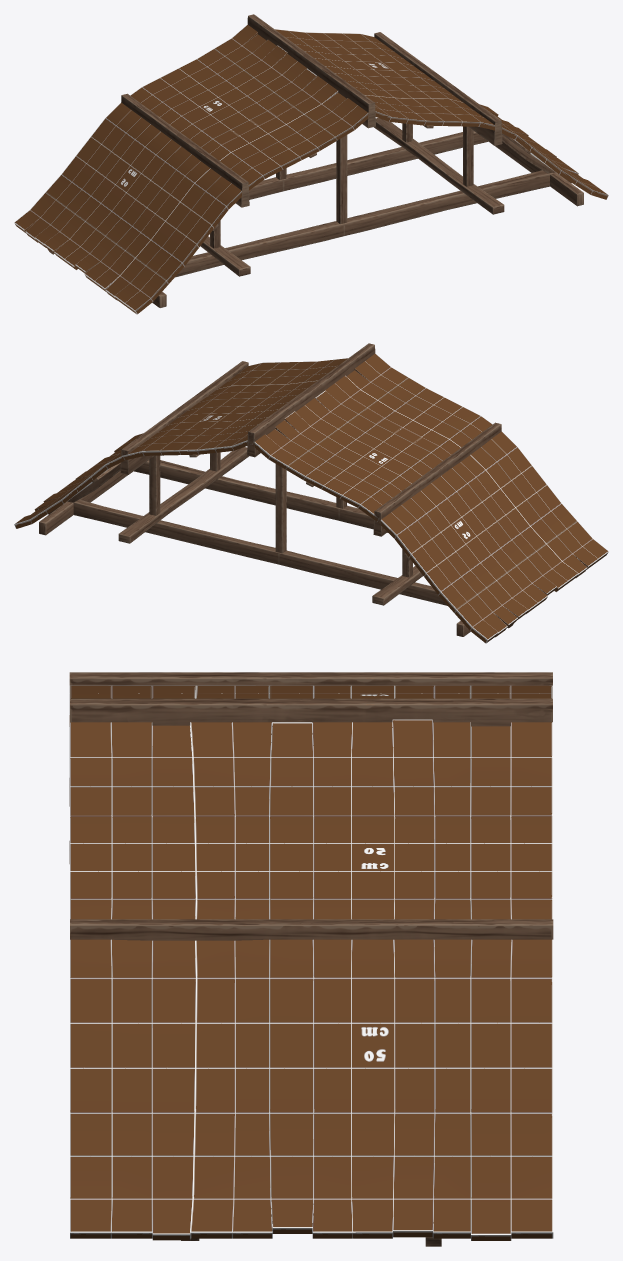
Rendered from Hangar01RM_5.FBX.
The picture shows the model from 3 angles, top to bottom: view 1: azimuth 30°, elevation 25°; view 2: azimuth 150°, elevation 25°; view 3: azimuth 270°, elevation 25°; orthographic projection. The views are drawn at different scales.
Parts seen in each view (by area): view 1: Hangar01RM_5; view 2: Hangar01RM_5; view 3: Hangar01RM_5.
Part boxes in pixels (x1,y1,x2,y2): Hangar01RM_5: (14,14,608,314); Hangar01RM_5: (14,343,608,643); Hangar01RM_5: (69,672,553,1246).
Size of what is drawn, in the model's own units: 10.22 by 3.3 by 4.5.
